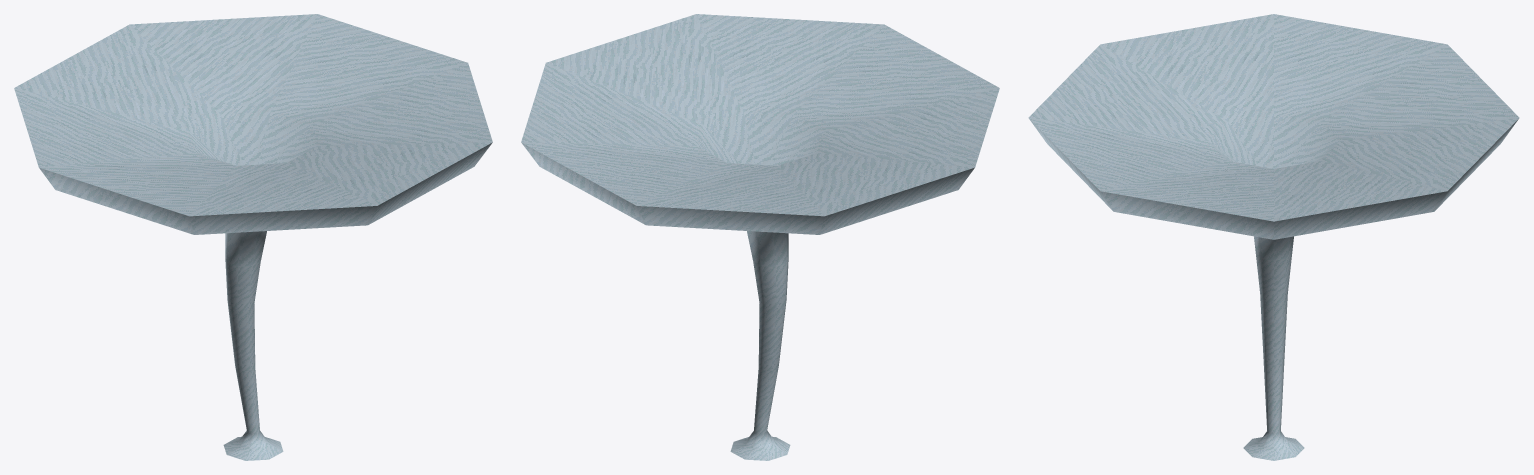
The model's file is 02d6_Tornado.glb.
3 renders of one model, left to right at view 1: azimuth 30°, elevation 25°; view 2: azimuth 150°, elevation 25°; view 3: azimuth 270°, elevation 25°, orthographic.
Visible parts, largest first — view 1: part_0; view 2: part_0; view 3: part_0.
Boxes of the visible parts, x1,y1,x2,y2 form: part_0: [14, 14, 492, 460]; part_0: [521, 14, 999, 460]; part_0: [1028, 14, 1519, 460].
Size of the model in its own units: 405 by 300 by 405.
Materials: 1 (1 with a texture image).
